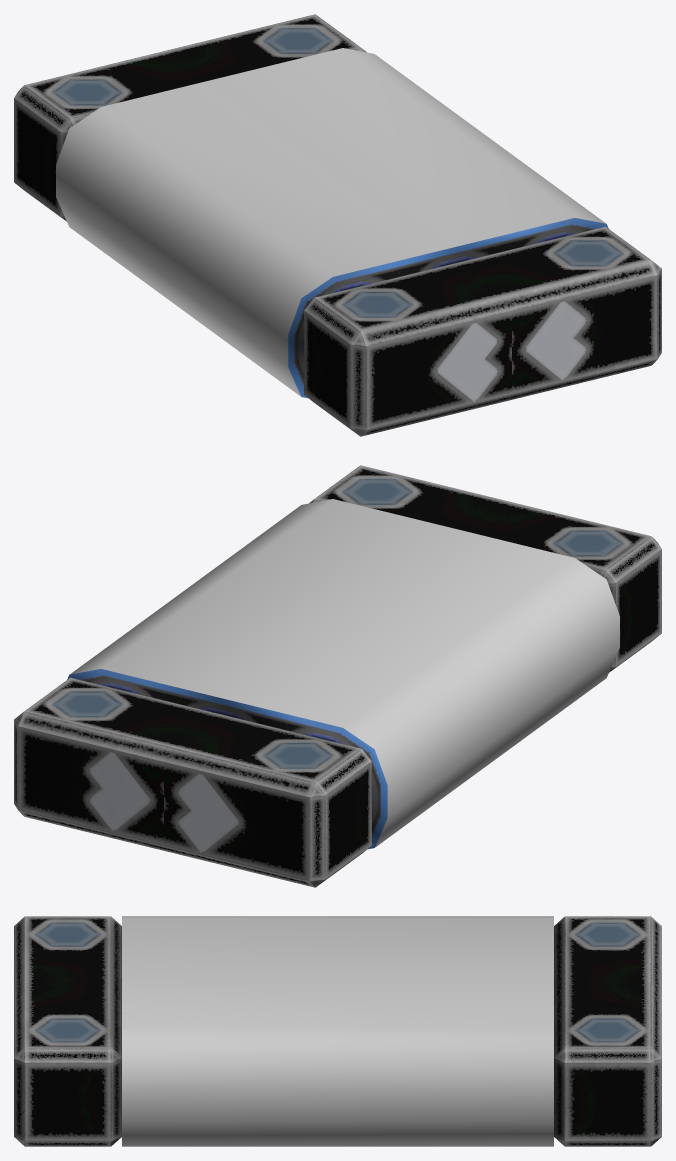
The model's file is obj_factory_belt_small.fbx.
The picture shows the model from 3 angles, top to bottom: view 1: azimuth 30°, elevation 25°; view 2: azimuth 150°, elevation 25°; view 3: azimuth 270°, elevation 25°; orthographic projection. The views are drawn at different scales.
Parts seen in each view (by area): view 1: Small Belt; view 2: Small Belt; view 3: Small Belt.
Boxes of the visible parts, left/top/right/bottom form: Small Belt: left=14, top=14, right=661, bottom=436; Small Belt: left=14, top=465, right=661, bottom=887; Small Belt: left=14, top=916, right=661, bottom=1146.
Size of the model in its own units: 6 by 3.3 by 1.2.
